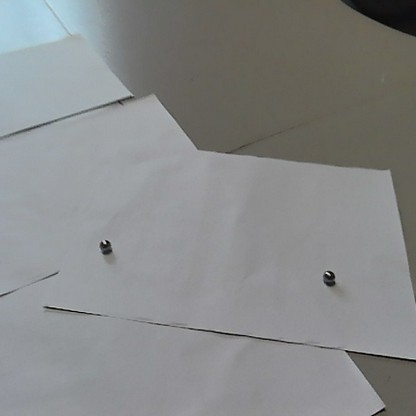ironball: (98, 236, 113, 255), (320, 268, 336, 284)
